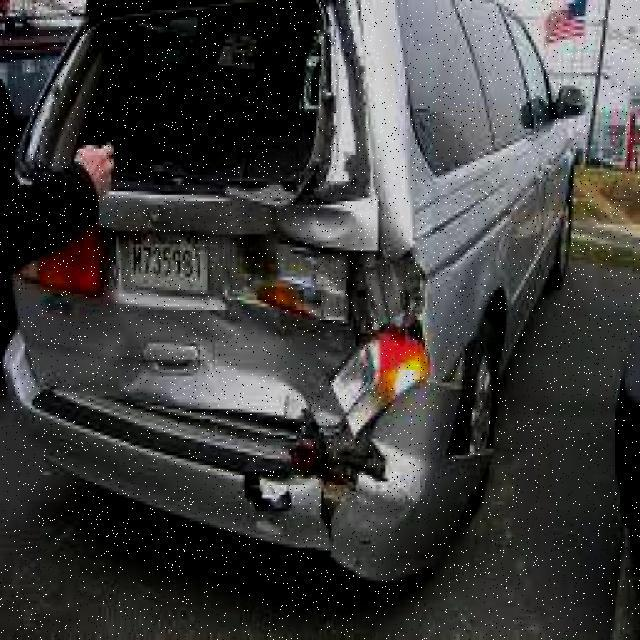car damage: (22, 0, 495, 572)
